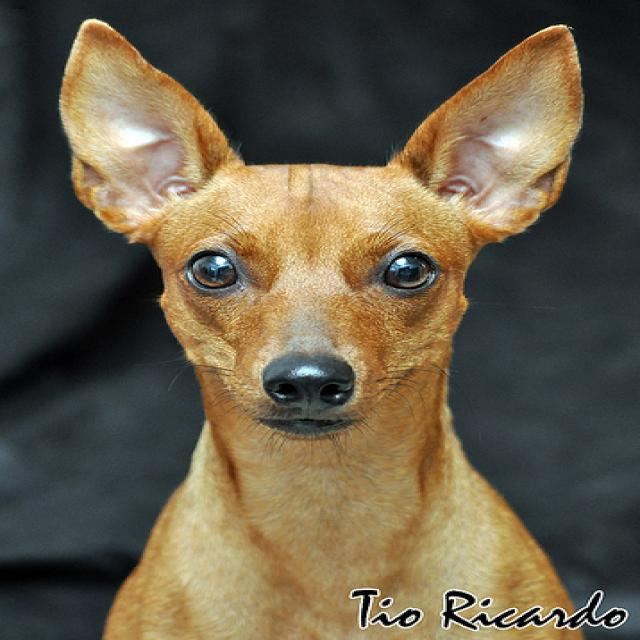dog-miniature_pinscher: (41, 1, 599, 637)
